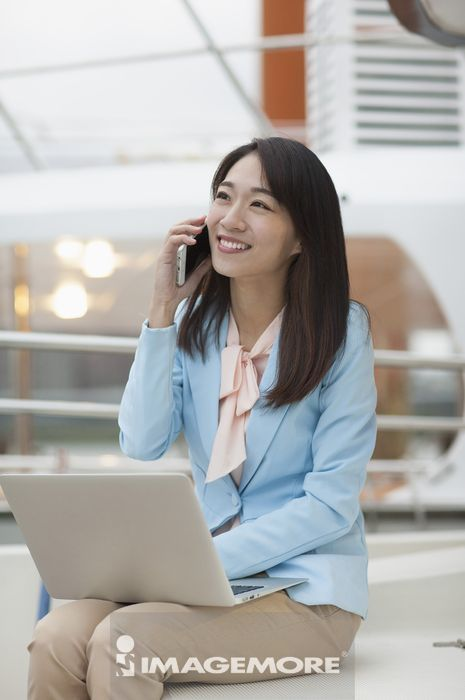phone: (174, 213, 211, 290)
talk: (145, 171, 283, 317)
